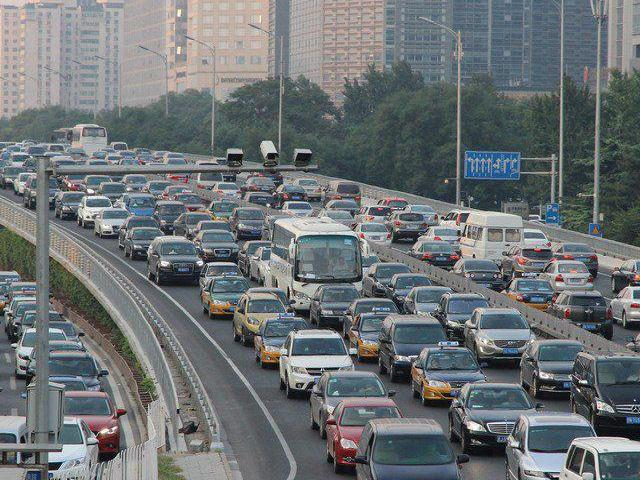bus: (266, 220, 365, 300), (68, 121, 111, 156)
